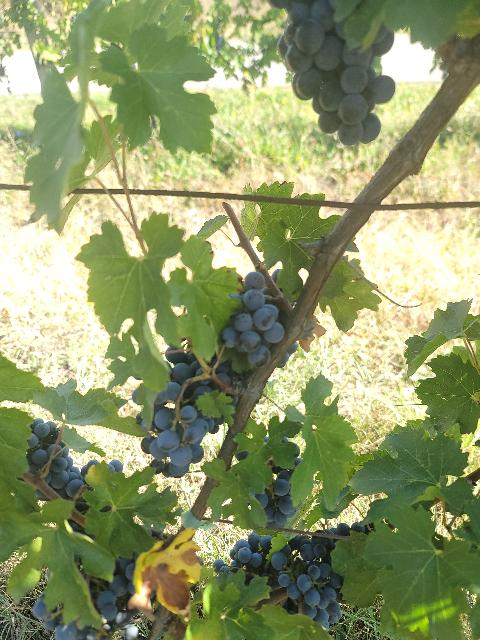grapes: (141, 346, 219, 478), (221, 271, 284, 368), (28, 419, 90, 499)
